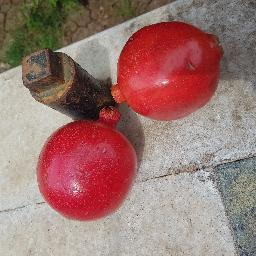Good_pomegranate: (112, 26, 227, 122), (40, 116, 138, 218)
